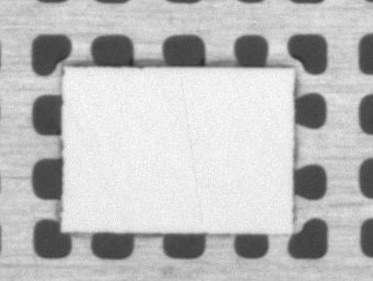DIE_CRACK: (240, 60, 268, 168)
